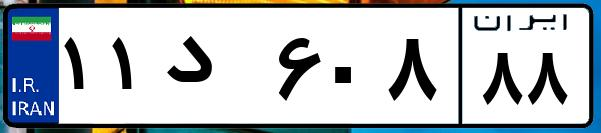0: (330, 28, 385, 110)
1: (57, 26, 110, 100), (110, 28, 158, 98)
6: (270, 28, 330, 110)
8: (385, 28, 445, 110), (475, 38, 525, 113), (525, 38, 570, 115)
د: (158, 20, 270, 120)
